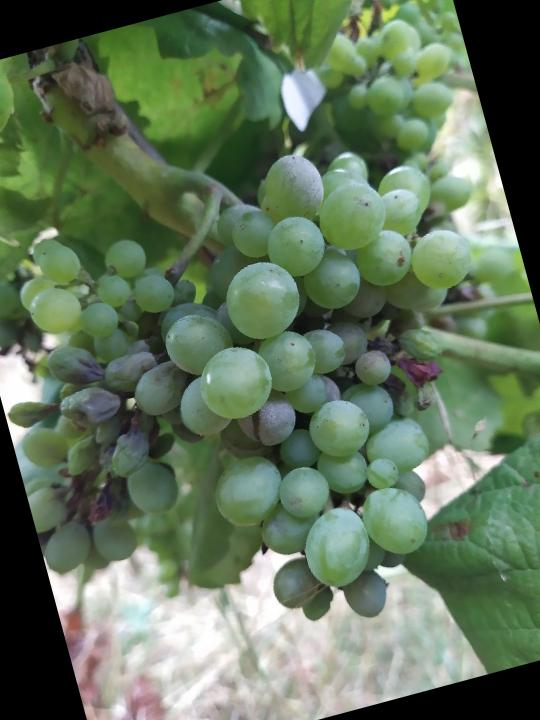grape: (0, 111, 540, 689)
